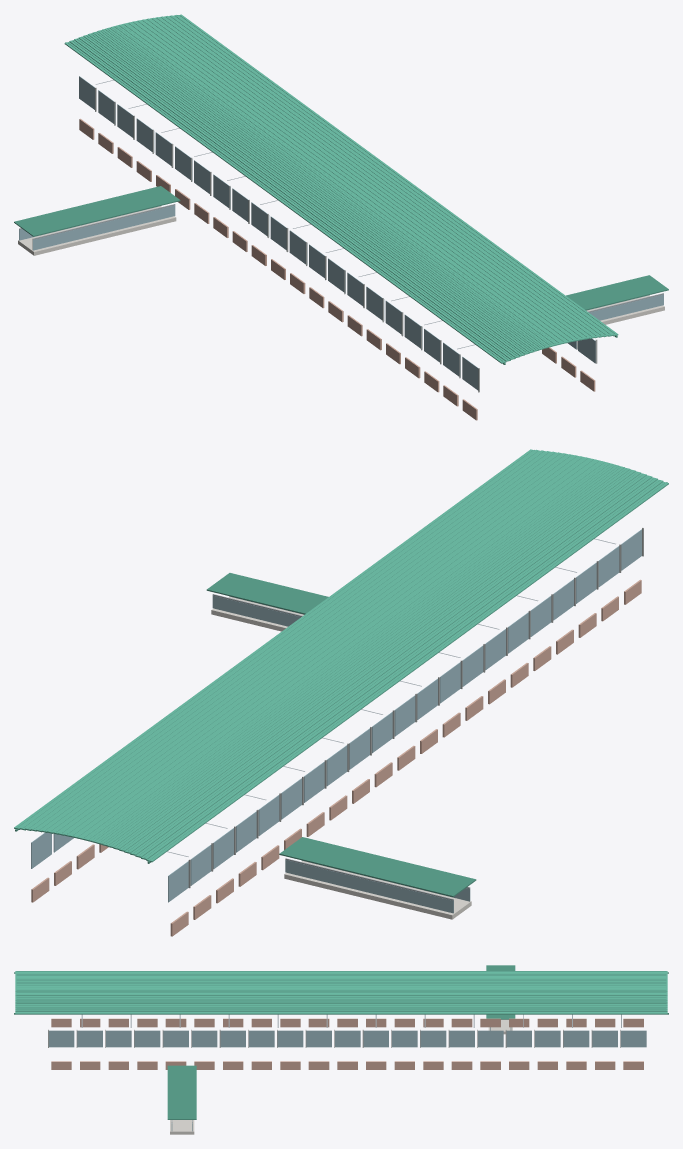
File: station-6-photo-reference.glb
3 renders of one model, top to bottom at view 1: azimuth 30°, elevation 25°; view 2: azimuth 150°, elevation 25°; view 3: azimuth 270°, elevation 25°, orthographic. The views are drawn at different scales.
Parts seen in each view (by area): view 1: Station 6 photo-informed architecture and surroundings; view 2: Station 6 photo-informed architecture and surroundings; view 3: Station 6 photo-informed architecture and surroundings.
Boxes of the visible parts, x1,y1,x2,y2 form: Station 6 photo-informed architecture and surroundings: (14, 14, 668, 420); Station 6 photo-informed architecture and surroundings: (14, 449, 668, 936); Station 6 photo-informed architecture and surroundings: (14, 965, 668, 1134).
Bounding box in the file's own units: 89 × 18.91 × 160.
